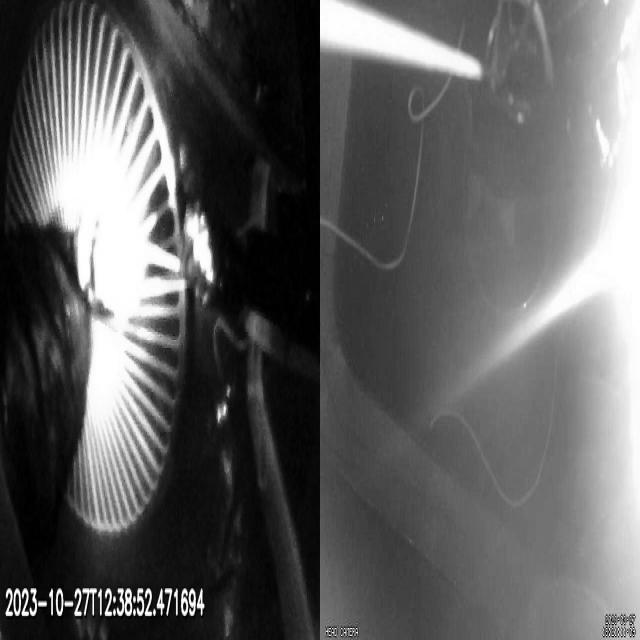head: (77, 211, 142, 315)
